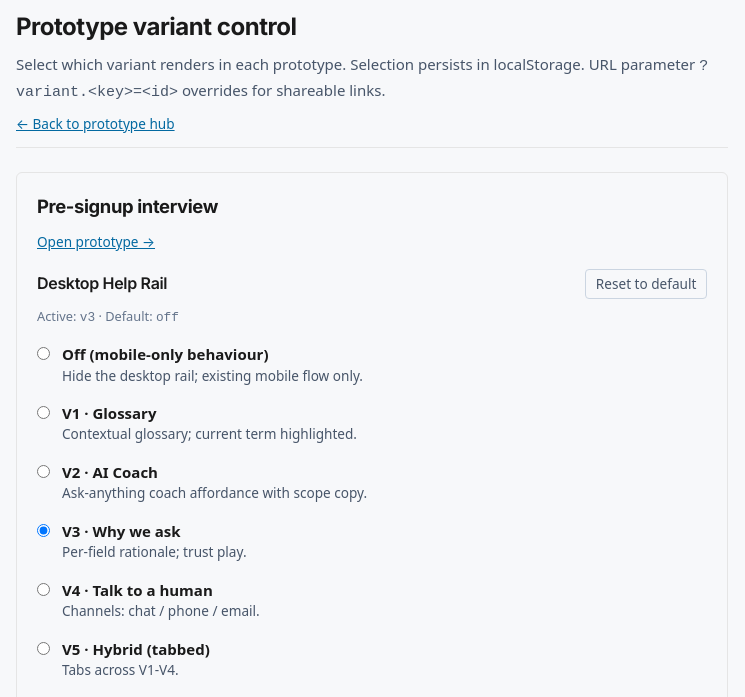
Test case: VariantControlPage — interaction › reset clears localStorage and reverts to default
Click the button "Reset to default". click: {"x": 646, "y": 284}
box: [585, 268, 707, 299]
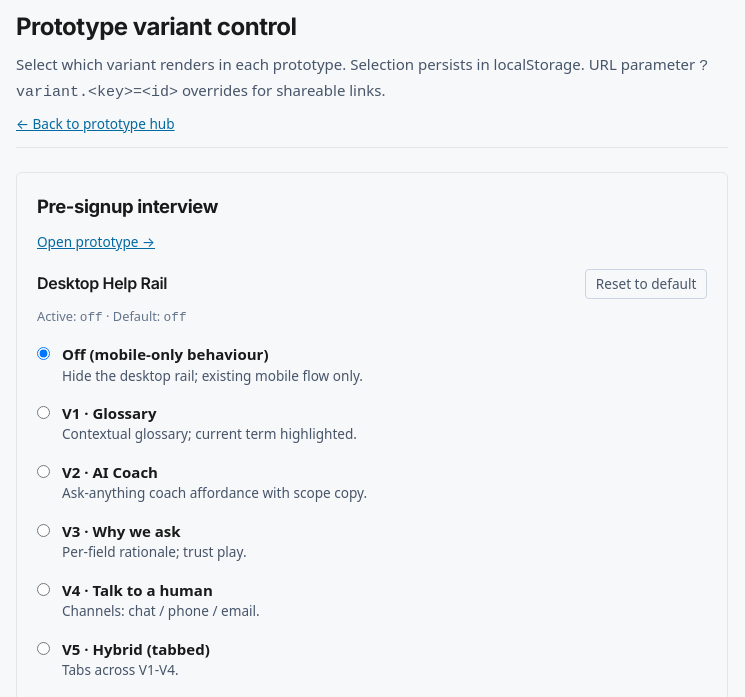
Expected: the radio button labelled "Off (mobile-only behaviour)" is checked, [37, 347, 50, 360]
